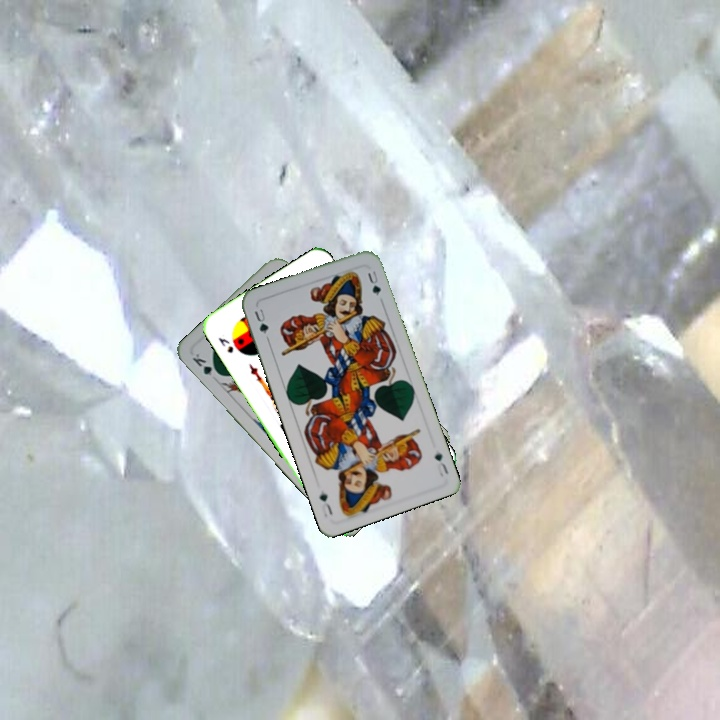GK: (188, 349, 223, 379)
GU: (430, 448, 452, 479), (250, 305, 271, 337)
SK: (214, 333, 236, 356)
